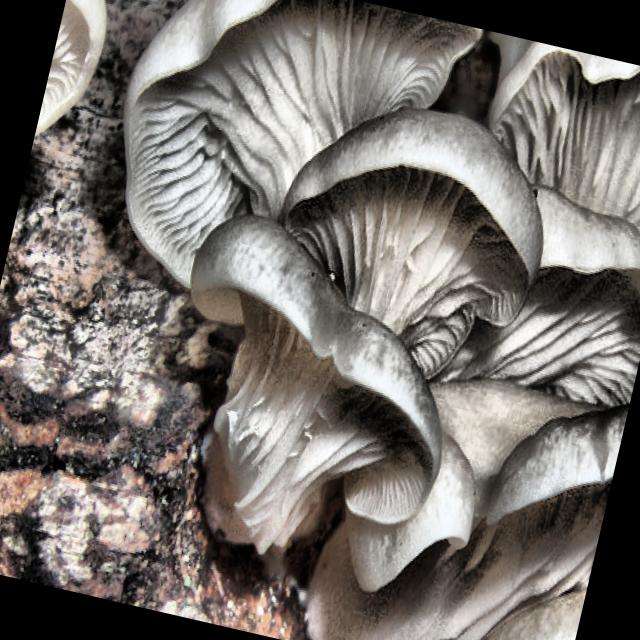Healthy: (143, 0, 640, 567)
